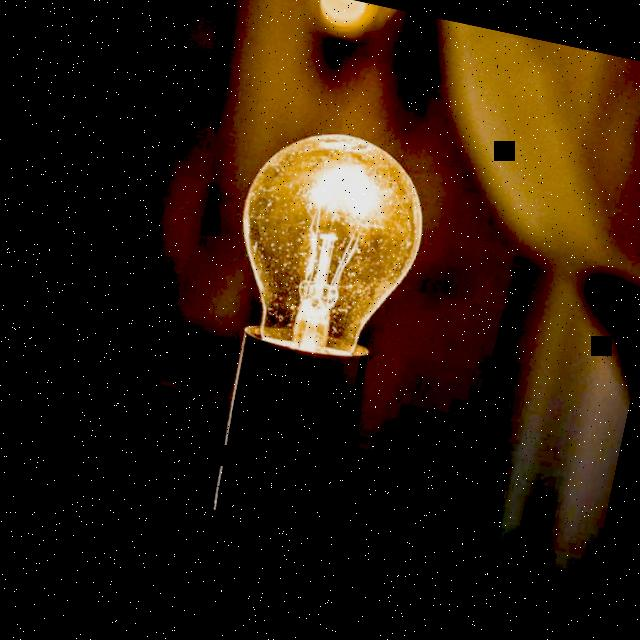light_bulb: (137, 98, 480, 574)
